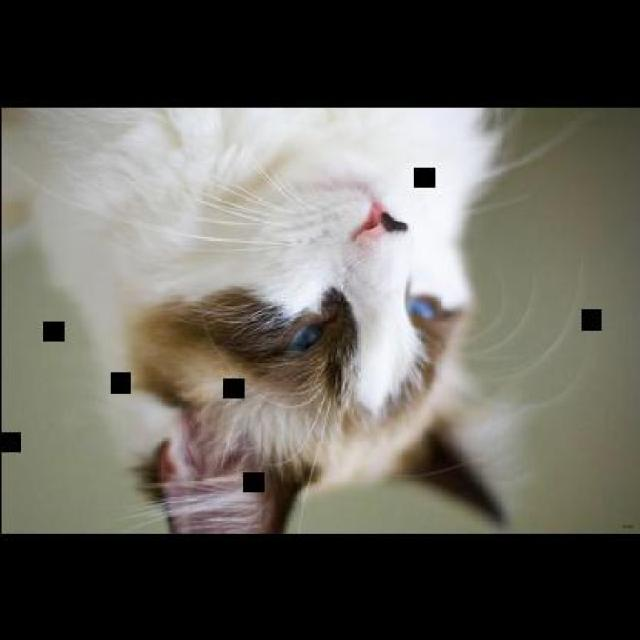unauthorized: (3, 106, 532, 534)
